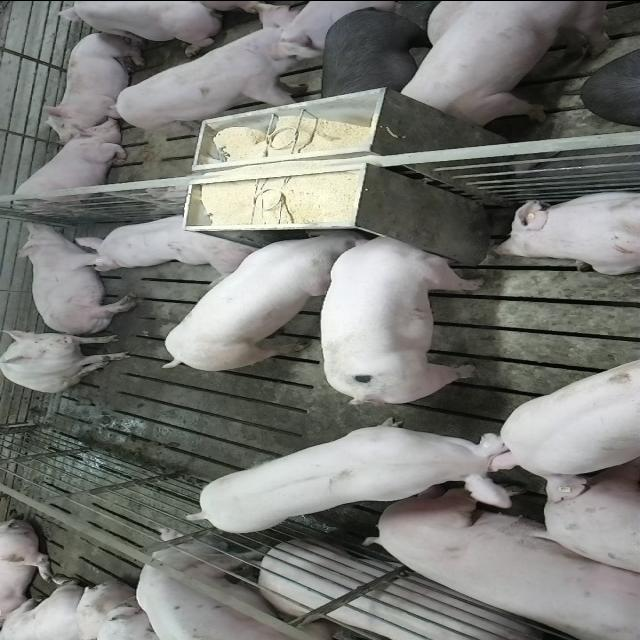Feeding: (160, 228, 367, 376), (319, 225, 485, 399)
Lateral_lying: (368, 471, 640, 636), (11, 220, 140, 334)
Sitting: (4, 126, 132, 214), (2, 328, 134, 392)
Standing: (189, 420, 535, 536), (393, 1, 619, 124), (106, 15, 322, 130), (129, 530, 351, 640), (497, 354, 640, 498), (316, 3, 441, 98)
Sternal_lying: (490, 188, 640, 274), (71, 208, 258, 272), (40, 28, 150, 136), (48, 2, 230, 54)
